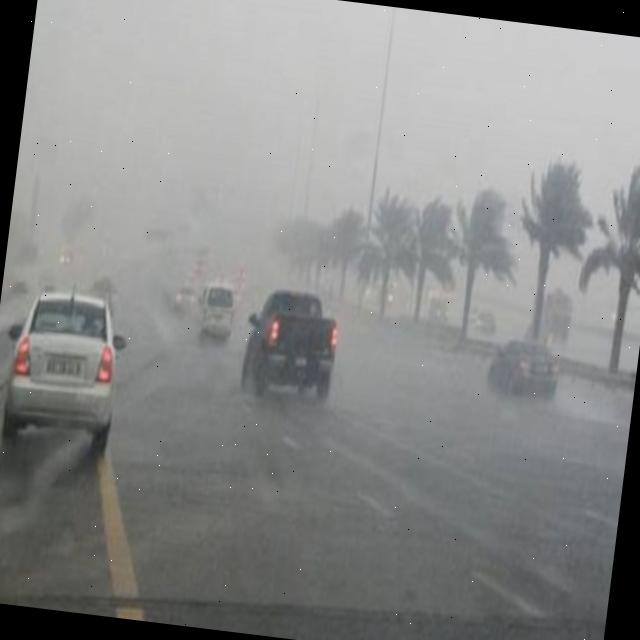bus: (523, 286, 575, 345)
car: (0, 285, 127, 458), (236, 284, 344, 408), (483, 334, 562, 402), (196, 282, 238, 344), (172, 284, 198, 312), (474, 310, 498, 333), (429, 298, 452, 319)
